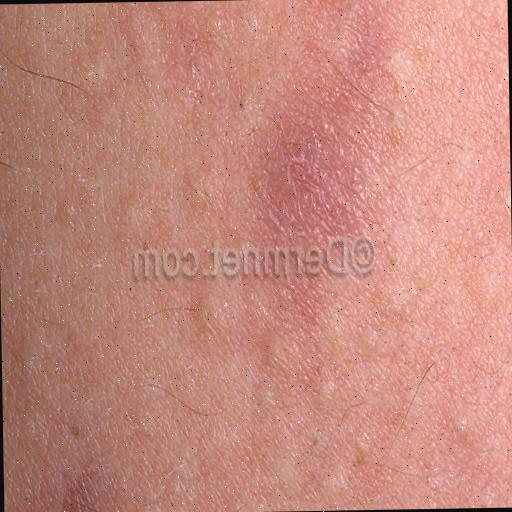Skin_Lesion: (214, 116, 383, 306), (296, 2, 408, 93), (58, 426, 118, 510), (172, 10, 224, 102), (330, 411, 386, 492), (428, 392, 486, 457)
